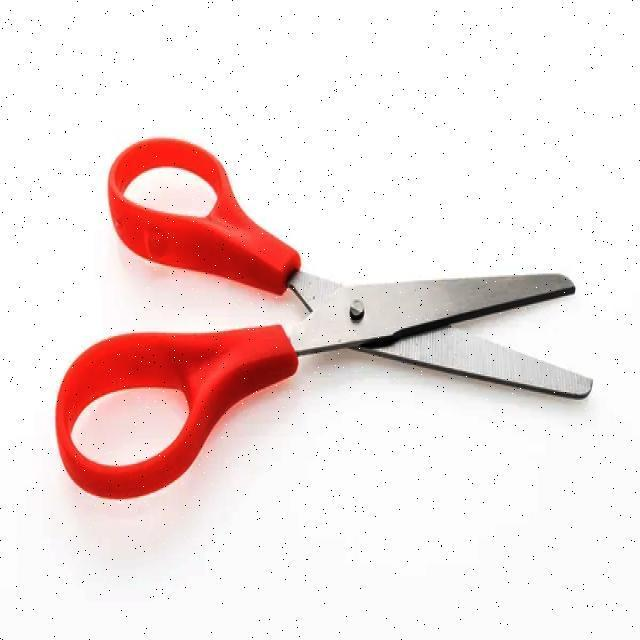scissors: (51, 131, 596, 503)
